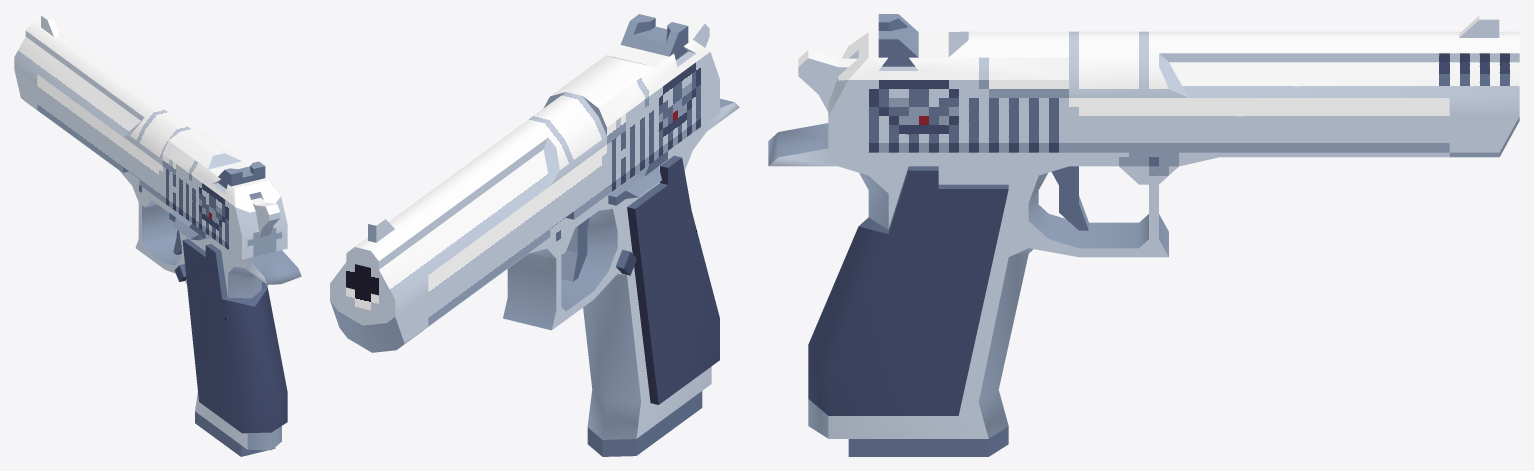
The model's file is deagle.glb.
3 views of the same model, side by side, from view 1: azimuth 30°, elevation 25°; view 2: azimuth 150°, elevation 25°; view 3: azimuth 270°, elevation 25° (orthographic). The views are drawn at different scales.
Parts seen in each view (by area): view 1: frame, slide, hammer, mag, Plane; view 2: frame, slide, mag, Plane, trigger, hammer; view 3: frame, slide, mag, hammer, trigger.
Part boxes in pixels (<box>): frame: <box>14,14,301,450</box>; slide: <box>37,74,287,259</box>; hammer: <box>251,198,280,255</box>; mag: <box>195,411,275,456</box>; Plane: <box>169,211,211,240</box>; frame: <box>330,92,739,439</box>; slide: <box>428,14,719,325</box>; mag: <box>587,391,702,456</box>; Plane: <box>608,151,667,205</box>; trigger: <box>561,217,589,281</box>; hammer: <box>684,19,709,47</box>; frame: <box>768,15,1519,438</box>; slide: <box>828,14,1449,152</box>; mag: <box>848,426,1008,456</box>; hammer: <box>798,49,857,111</box>; trigger: <box>1051,166,1088,230</box>.
Bounding box in the file's own units: 0.0562 × 0.2937 × 0.4688.
1 material, 1 textured.
